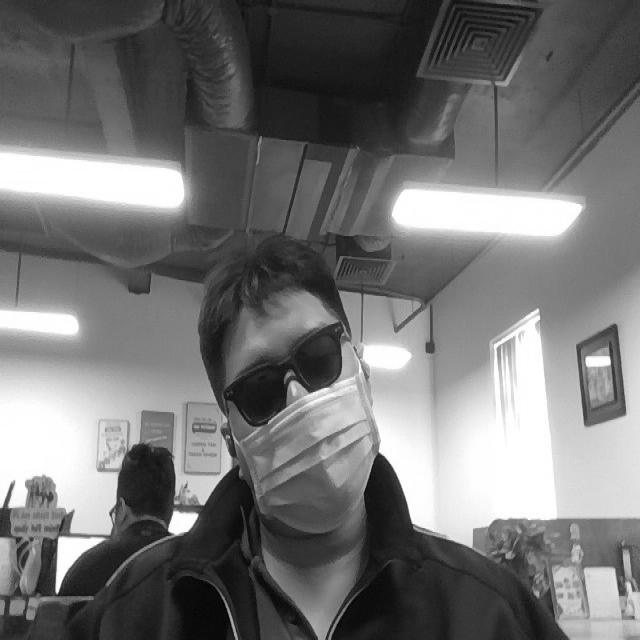fake: (242, 373, 385, 540), (213, 319, 353, 431)
